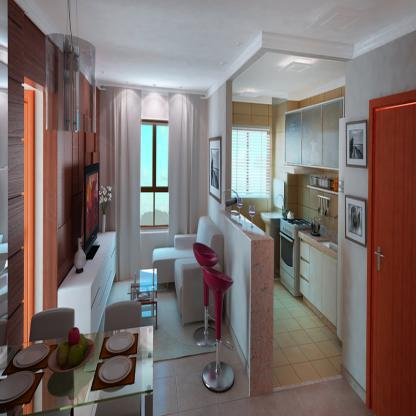door: (368, 108, 415, 415)
lever: (374, 251, 386, 259)
